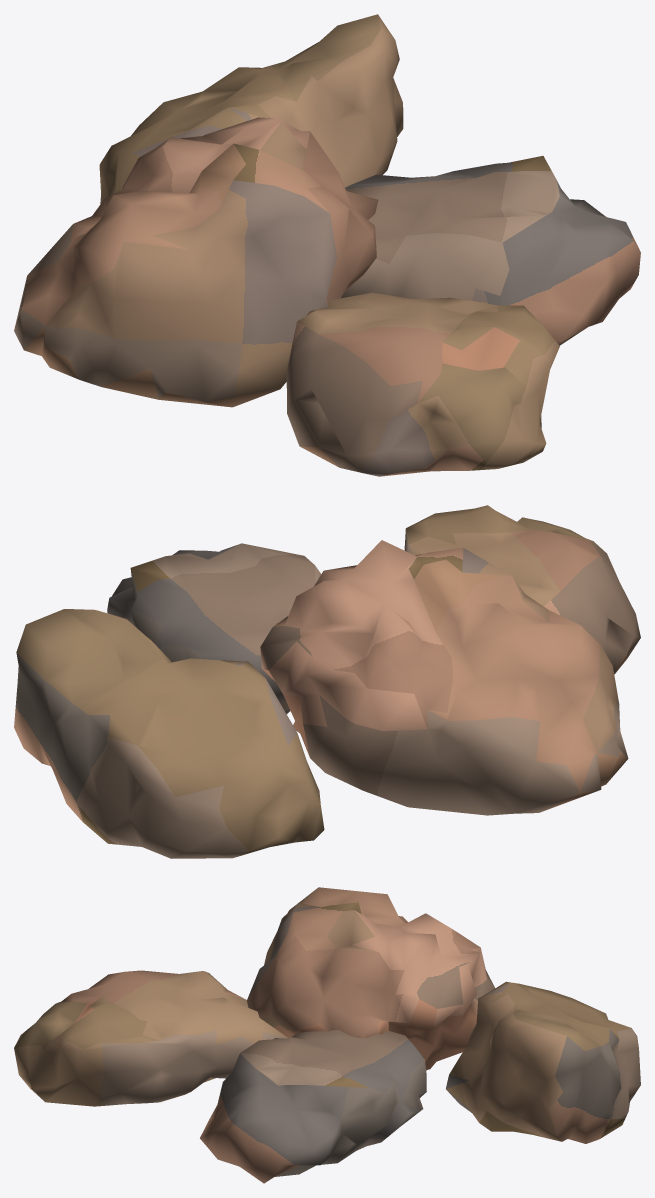
The model's file is ph_rock_6.glb.
3 renders of one model, top to bottom at view 1: azimuth 30°, elevation 25°; view 2: azimuth 150°, elevation 25°; view 3: azimuth 270°, elevation 25°, orthographic. The views are drawn at different scales.
Visible parts, largest first — view 1: ph_rock_6_lod1; view 2: ph_rock_6_lod1; view 3: ph_rock_6_lod1.
Part boxes in pixels (box(x1,y1,x2,y2)): ph_rock_6_lod1: box(14, 14, 640, 476); ph_rock_6_lod1: box(14, 505, 640, 858); ph_rock_6_lod1: box(14, 887, 640, 1183).
Size of the model in its own units: 0.4044 by 0.1537 by 0.4979.
Materials: 1 (1 with a texture image).
